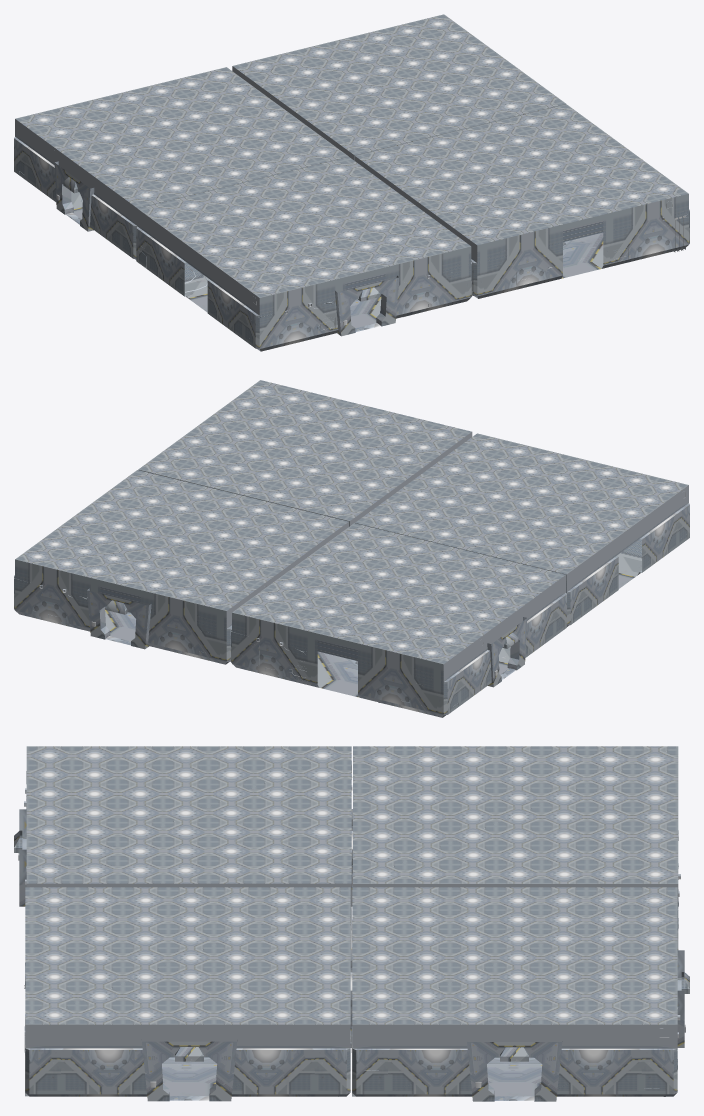
File: Combined_Mesh_root_scene__9_f65a131e__ZombiesII_laboratory_03_d_5a0f8016_c1f257_part002.obj
The picture shows the model from 3 angles, top to bottom: view 1: azimuth 30°, elevation 25°; view 2: azimuth 150°, elevation 25°; view 3: azimuth 270°, elevation 25°; orthographic projection. The views are drawn at different scales.
Bounding box in the file's own units: 83.99 × 10.21 × 83.14.
233 materials, 233 textured.
